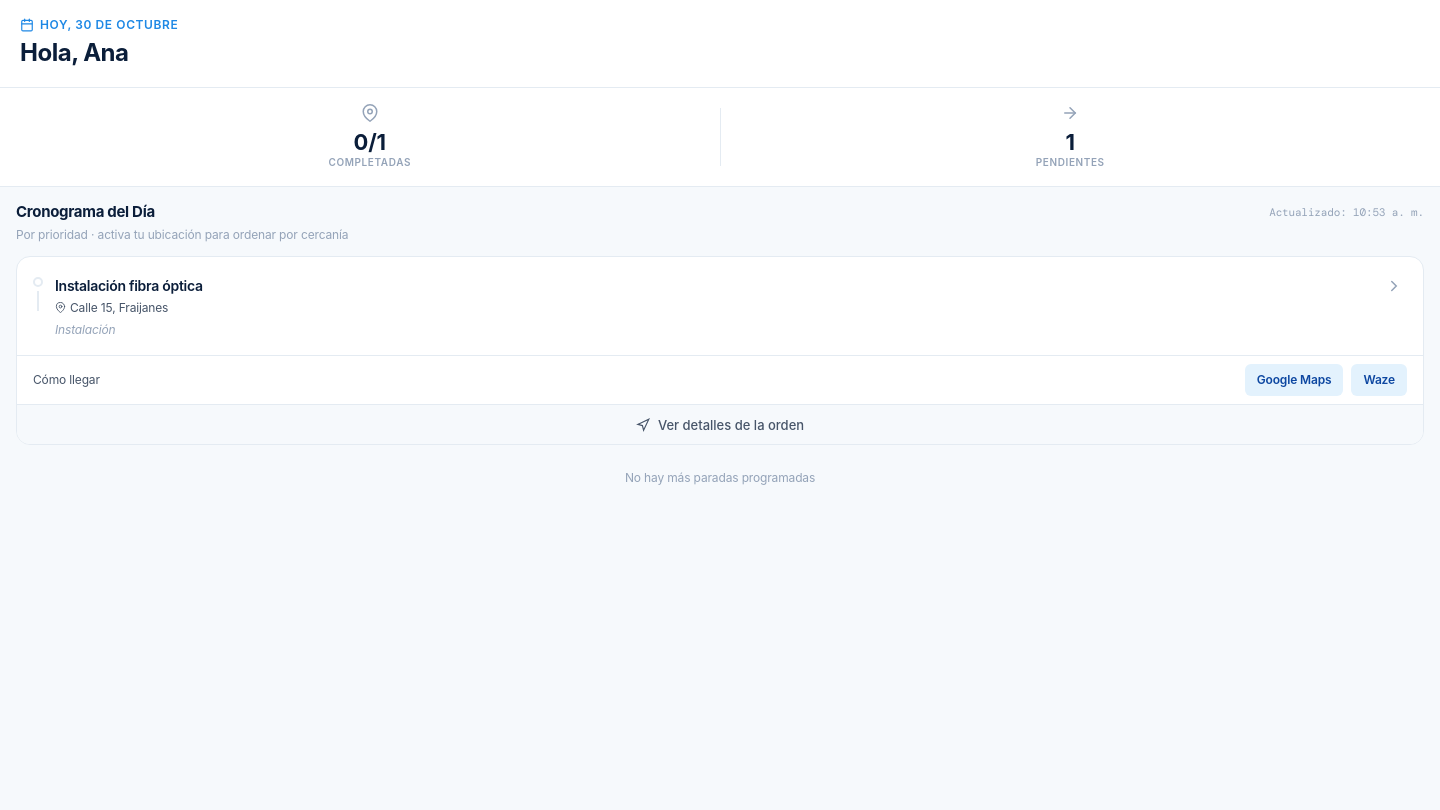
Test case: RutaDiariaPage — tareas y jornada (HU-5) › si el backend responde que no hay jornada, lo muestra y revierte
Click the button named "Ver detalles de Instalación" at (1394, 286), box [1381,274,1407,300]
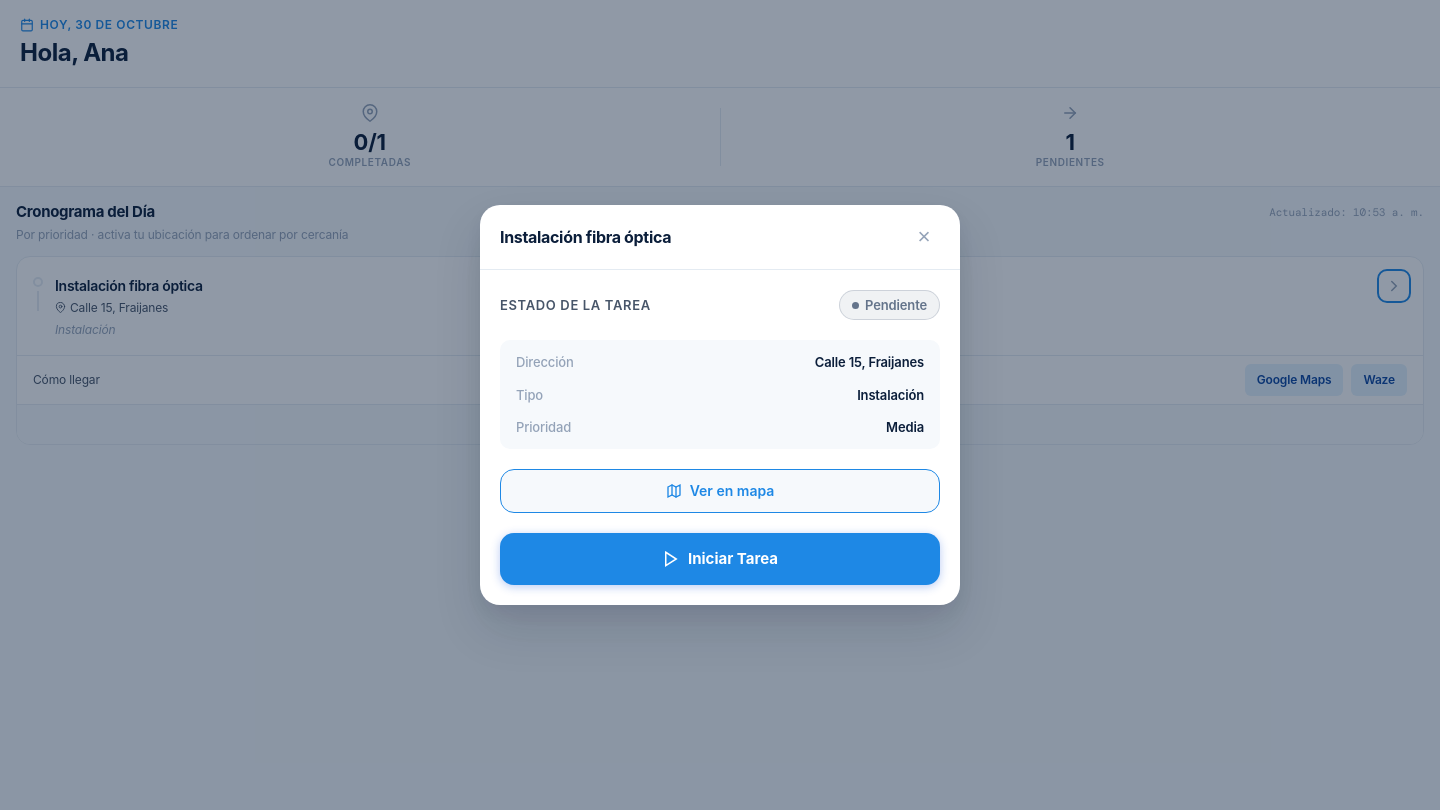
Click the button "Iniciar Tarea" at (720, 559), box [500,533,940,585]
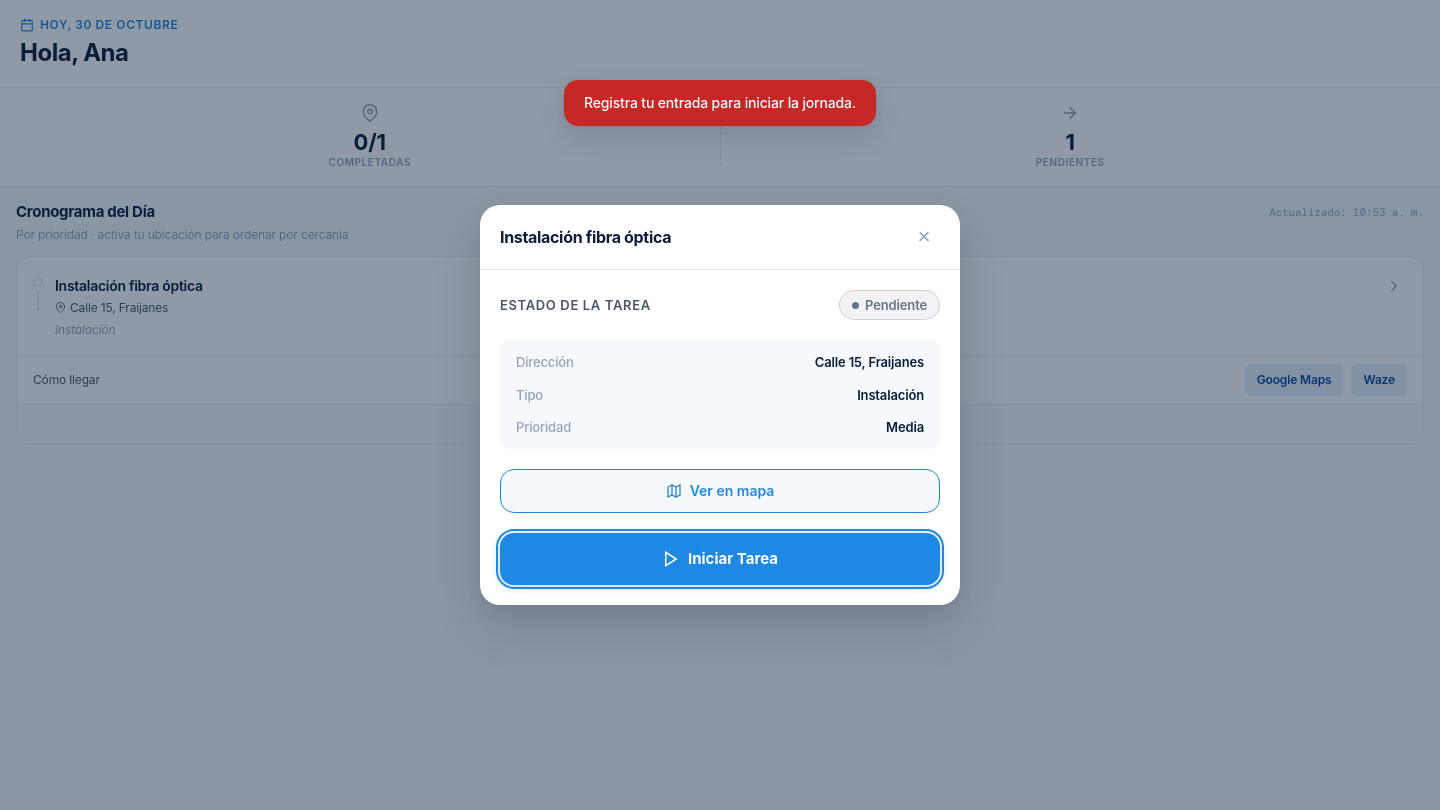
Expected: the button "Iniciar Tarea" is shown, [500,533,940,585]
Expected: the text "Registra tu entrada para iniciar la jornada." is shown, [564,80,876,126]
